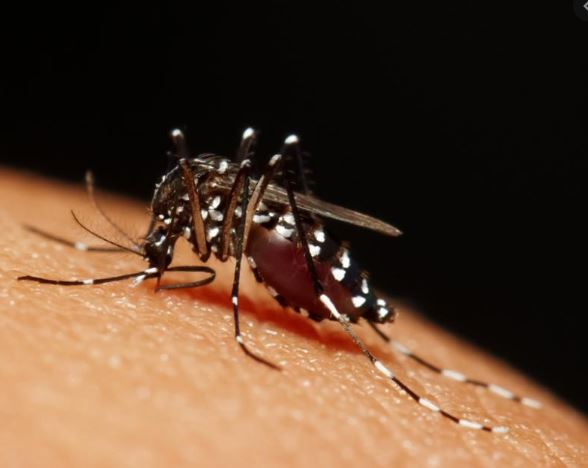dengue_mosquito: (17, 126, 405, 390)
